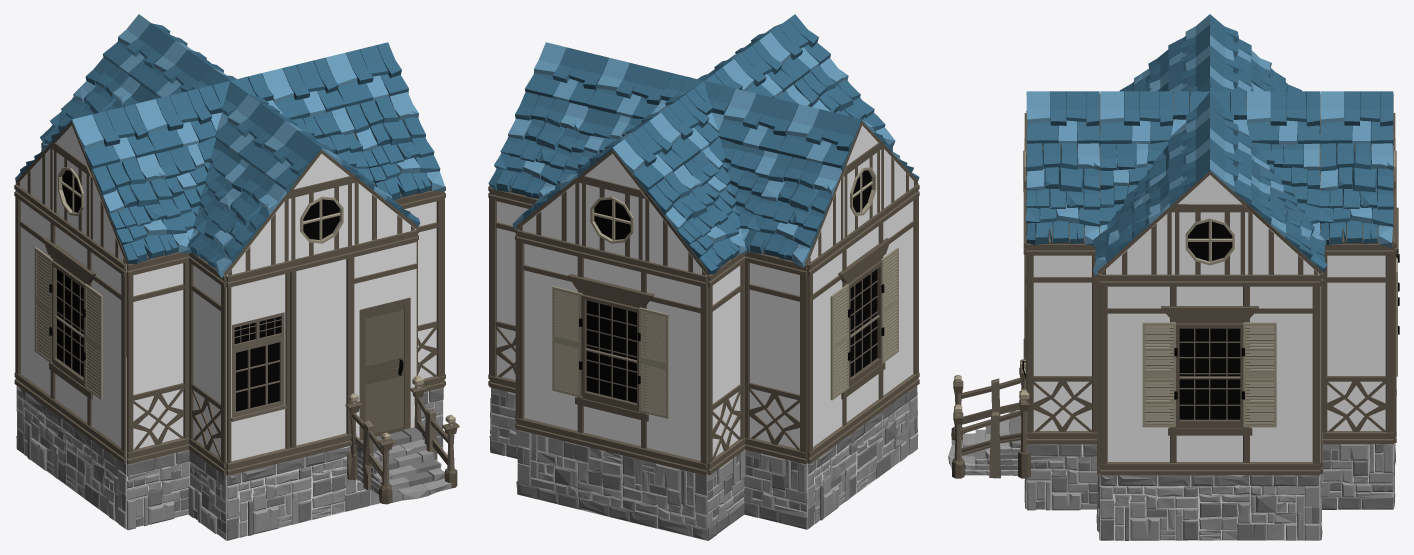
File: House_02_full.glb
The picture shows the model from 3 angles, left to right: view 1: azimuth 30°, elevation 25°; view 2: azimuth 150°, elevation 25°; view 3: azimuth 270°, elevation 25°; orthographic projection.
Parts seen in each view (by area): view 1: WINDOW_07_2, WINDOW_04_2, WALL_03_2, WALL_04_3, DOOR_01_2, FOUNDATION_02_10, STAIRS_06_5, WALL_04_2, FOUNDATION_02_11, ROOF_base_3, ROOF_base_5, WALL_04_8 (+26 smaller); view 2: WINDOW_07_3, WINDOW_07_2, WALL_04_4, FOUNDATION_02_12, WALL_04_5, FOUNDATION_02_11, ROOF_base_9, ROOF_base_7, WALL_04_7, ROOF_base_8, ROOF_inner_corner_5, FOUNDATION_03_12 (+24 smaller); view 3: WINDOW_07_4, FOUNDATION_02_13, WALL_04_6, WALL_04_9, ROOF_base_6, ROOF_base_4, STAIRS_06_5, FOUNDATION_03_14, ROOF_Window_round_2, FOUNDATION_03_17, ROOF_inner_corner_4, ROOF_inner_corner_3 (+24 smaller).
Boxes of the visible parts, <box> form: WINDOW_07_2: <box>14,184,126,463</box>; WINDOW_04_2: <box>226,260,291,475</box>; WALL_03_2: <box>290,245,354,460</box>; WALL_04_3: <box>126,252,189,464</box>; DOOR_01_2: <box>353,229,417,440</box>; FOUNDATION_02_10: <box>226,446,380,540</box>; STAIRS_06_5: <box>345,375,459,504</box>; WALL_04_2: <box>189,252,226,475</box>; FOUNDATION_02_11: <box>17,386,126,529</box>; ROOF_base_3: <box>90,153,189,264</box>; ROOF_base_5: <box>345,92,445,200</box>; WALL_04_8: <box>394,190,444,392</box>; WINDOW_07_3: <box>516,230,707,475</box>; WINDOW_07_2: <box>807,184,919,463</box>; WALL_04_4: <box>744,251,807,464</box>; FOUNDATION_02_12: <box>517,430,707,540</box>; WALL_04_5: <box>707,253,745,475</box>; FOUNDATION_02_11: <box>807,386,918,528</box>; ROOF_base_9: <box>744,153,843,267</box>; ROOF_base_7: <box>488,92,588,198</box>; WALL_04_7: <box>489,187,538,393</box>; ROOF_base_8: <box>644,164,747,275</box>; ROOF_inner_corner_5: <box>684,137,778,240</box>; FOUNDATION_03_12: <box>744,450,808,529</box>; WINDOW_07_4: <box>1100,274,1320,475</box>; FOUNDATION_02_13: <box>1100,475,1320,540</box>; WALL_04_6: <box>1322,243,1393,444</box>; WALL_04_9: <box>1026,243,1097,444</box>; ROOF_base_6: <box>1319,142,1393,247</box>; ROOF_base_4: <box>1026,142,1100,246</box>; STAIRS_06_5: <box>948,359,1030,478</box>; FOUNDATION_03_14: <box>1321,444,1393,509</box>; ROOF_Window_round_2: <box>1173,212,1246,274</box>; FOUNDATION_03_17: <box>1026,444,1097,510</box>; ROOF_inner_corner_4: <box>1251,141,1320,234</box>; ROOF_inner_corner_3: <box>1099,141,1169,234</box>.
Size of the model in its own units: 5.17 by 5.59 by 6.15.
Materials: 1 (1 with a texture image).
